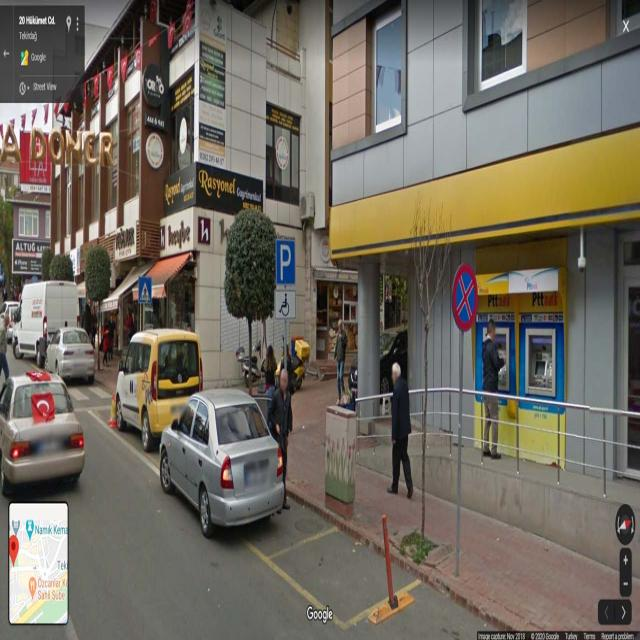park: (275, 240, 296, 286)
